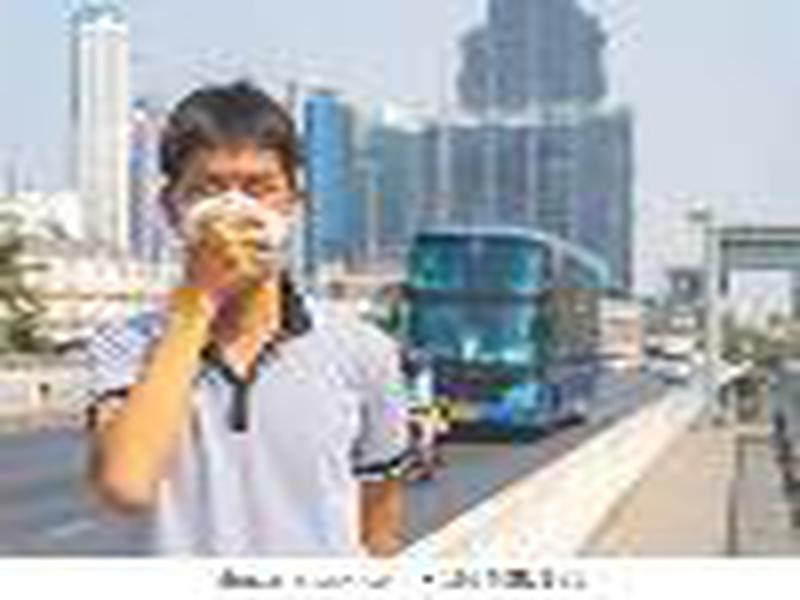with_mask: (167, 141, 305, 299)
